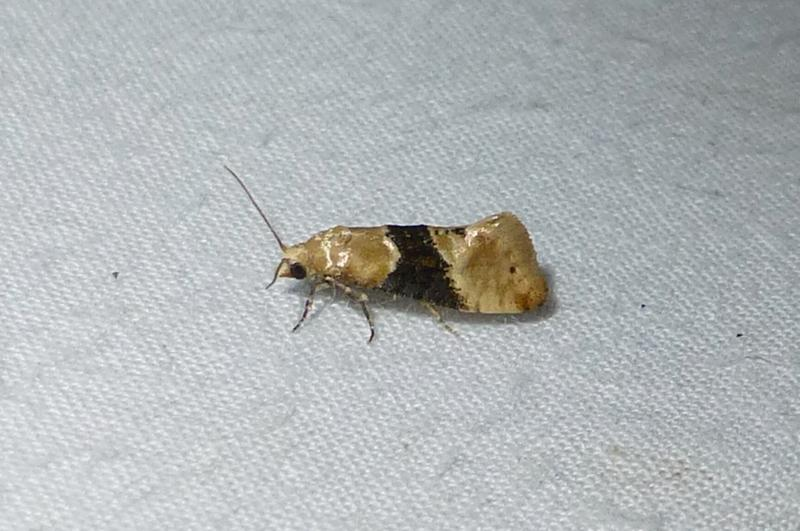Eupoecilia Ambiguella: (218, 160, 552, 347)
